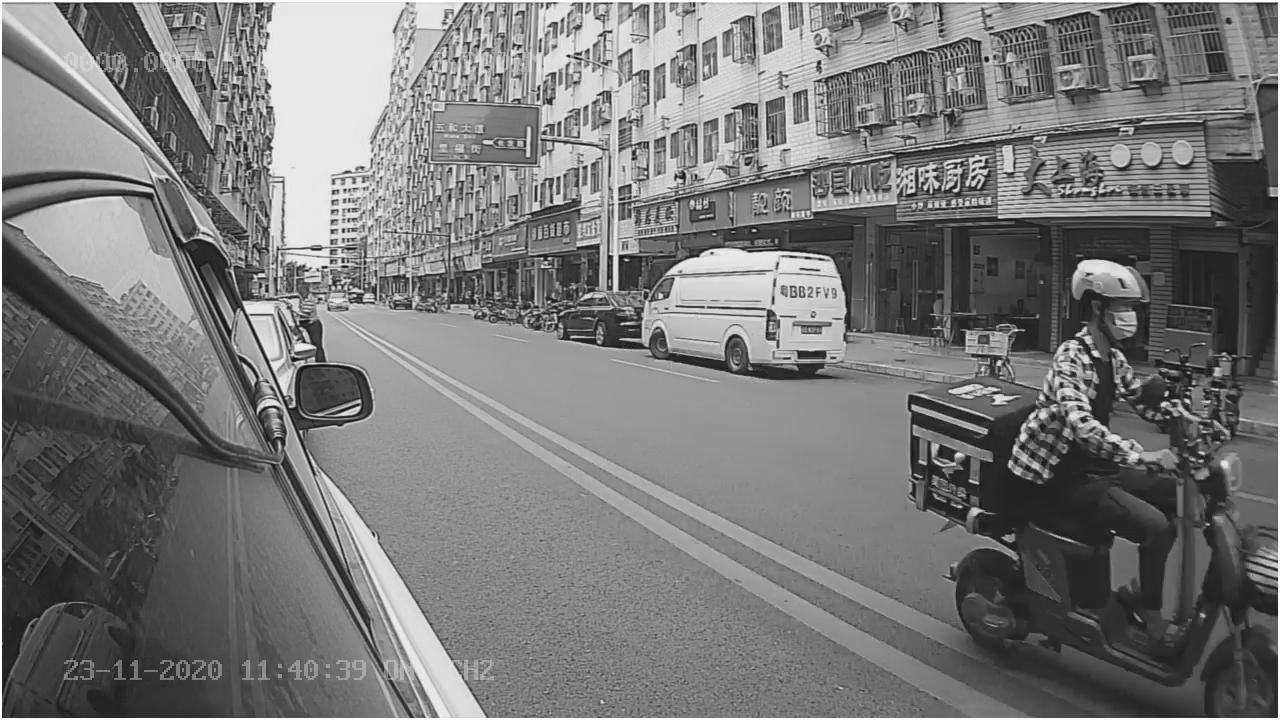person: (1038, 254, 1168, 471)
